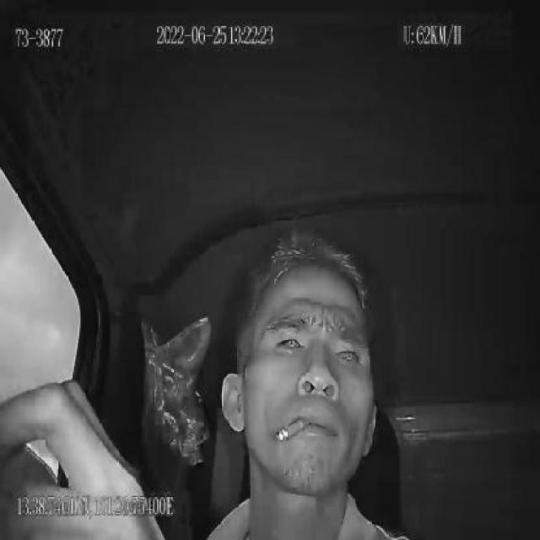smoking: (276, 419, 310, 442)
